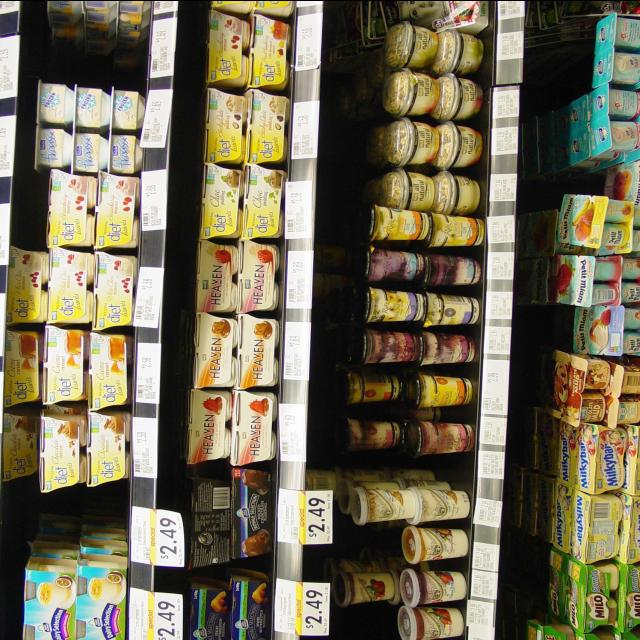empty_space: (26, 492, 125, 548), (41, 40, 144, 79), (340, 527, 396, 557), (334, 606, 388, 637)
